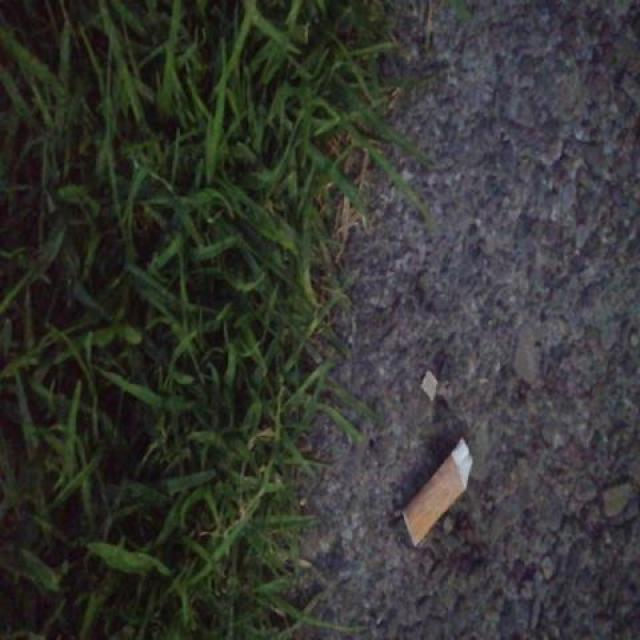non-organic waste: (398, 432, 477, 552)
